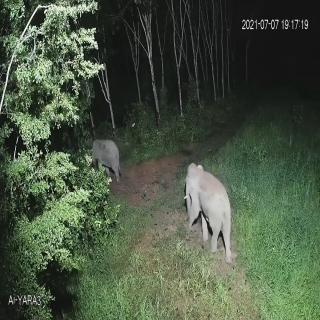Elephant: (178, 156, 234, 265), (86, 130, 128, 188)
